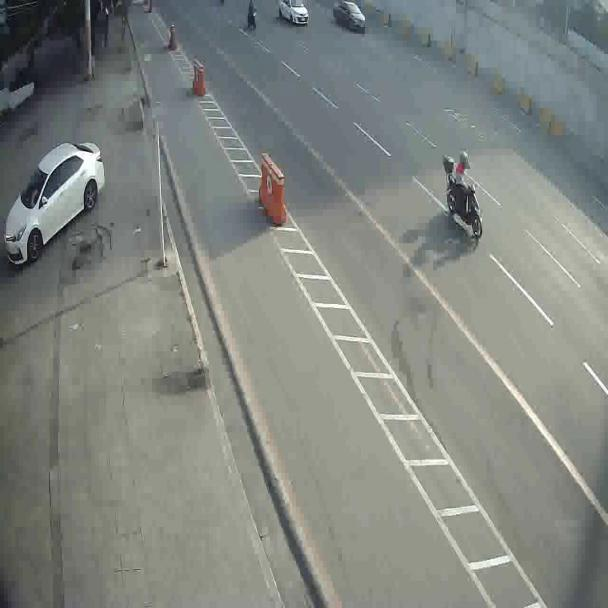motorcyclist: (443, 150, 482, 241)
vehicle: (7, 142, 105, 271), (331, 4, 367, 38), (278, 1, 308, 26)
